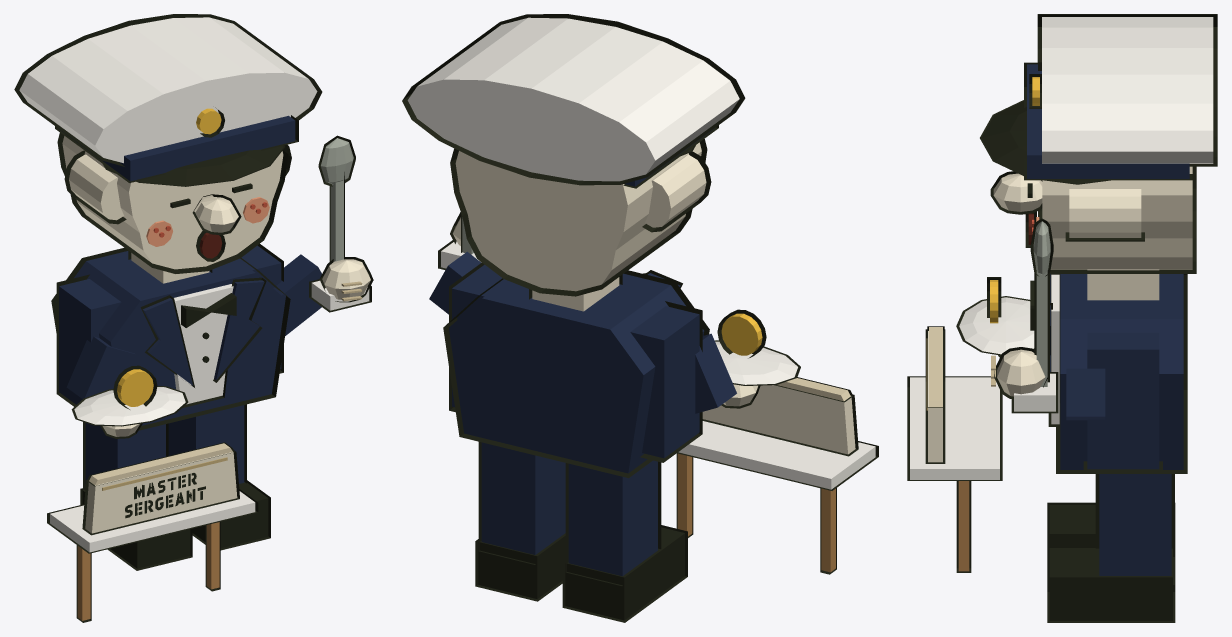
The picture shows the model from 3 angles, left to right: view 1: azimuth 30°, elevation 25°; view 2: azimuth 150°, elevation 25°; view 3: azimuth 270°, elevation 25°; orthographic projection. The views are drawn at different scales.
Visible parts, largest first — view 1: Link Marine; view 2: Link Marine; view 3: Link Marine.
Part boxes in pixels (box(x1,y1,x2,y2)): Link Marine: box(14, 14, 373, 622); Link Marine: box(402, 14, 878, 622); Link Marine: box(907, 14, 1217, 622).
Bounding box in the file's own units: 0.722 × 0.9942 × 0.5155.
